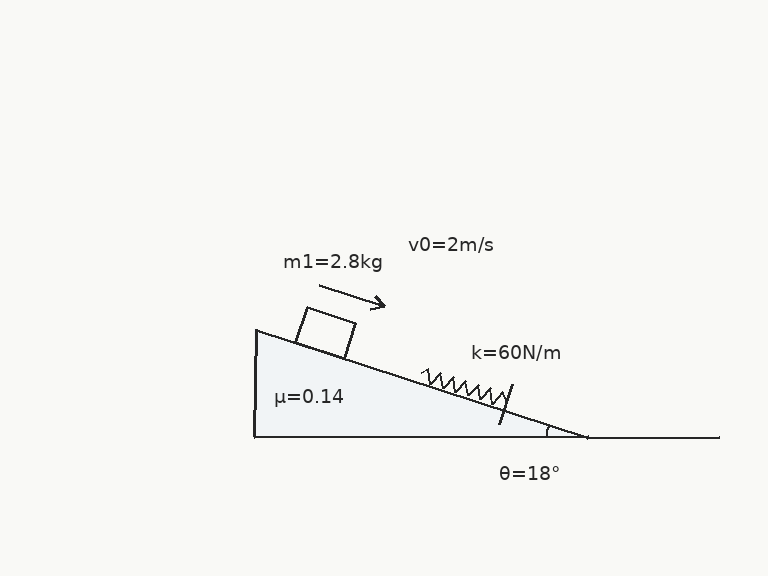block: (293, 305, 357, 360)
ramp: (252, 327, 589, 439)
spring: (418, 367, 509, 406)
